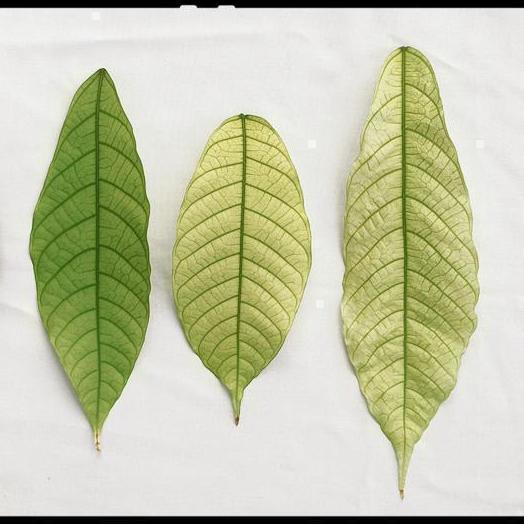Iron: (341, 47, 479, 496), (30, 68, 150, 448), (173, 114, 311, 423)
